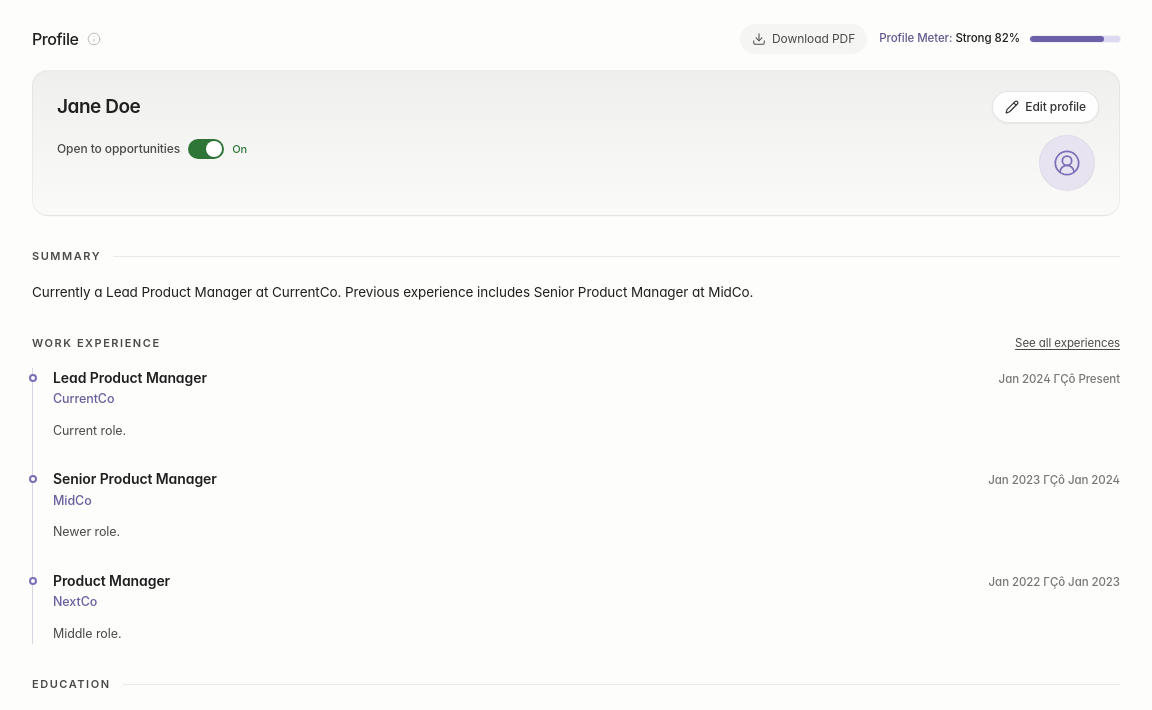
Scenario: LivingProfile experience toggle › clicking Show less collapses the list again
Click the button with test id "experience-toggle": (1068, 344) [1015, 335, 1120, 353]
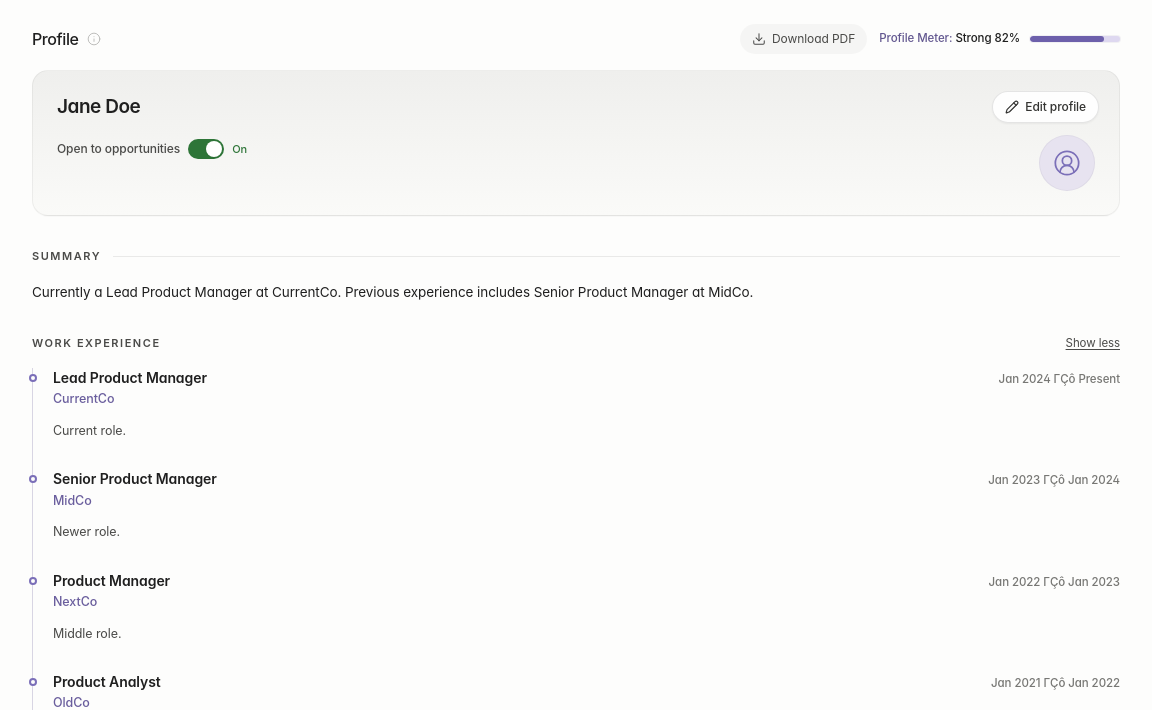
Click the button with test id "experience-toggle": (1093, 344) [1066, 335, 1120, 353]
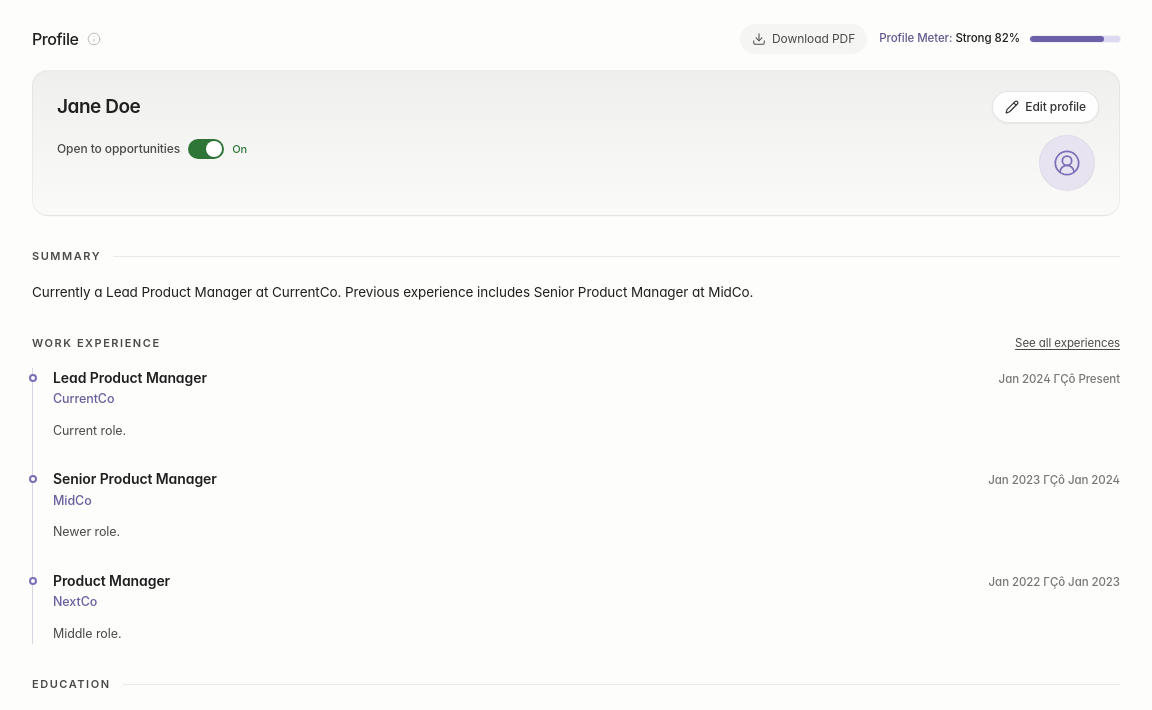
Now the button with test id "experience-toggle" reads "See all experiences", box [1015, 335, 1120, 353]
